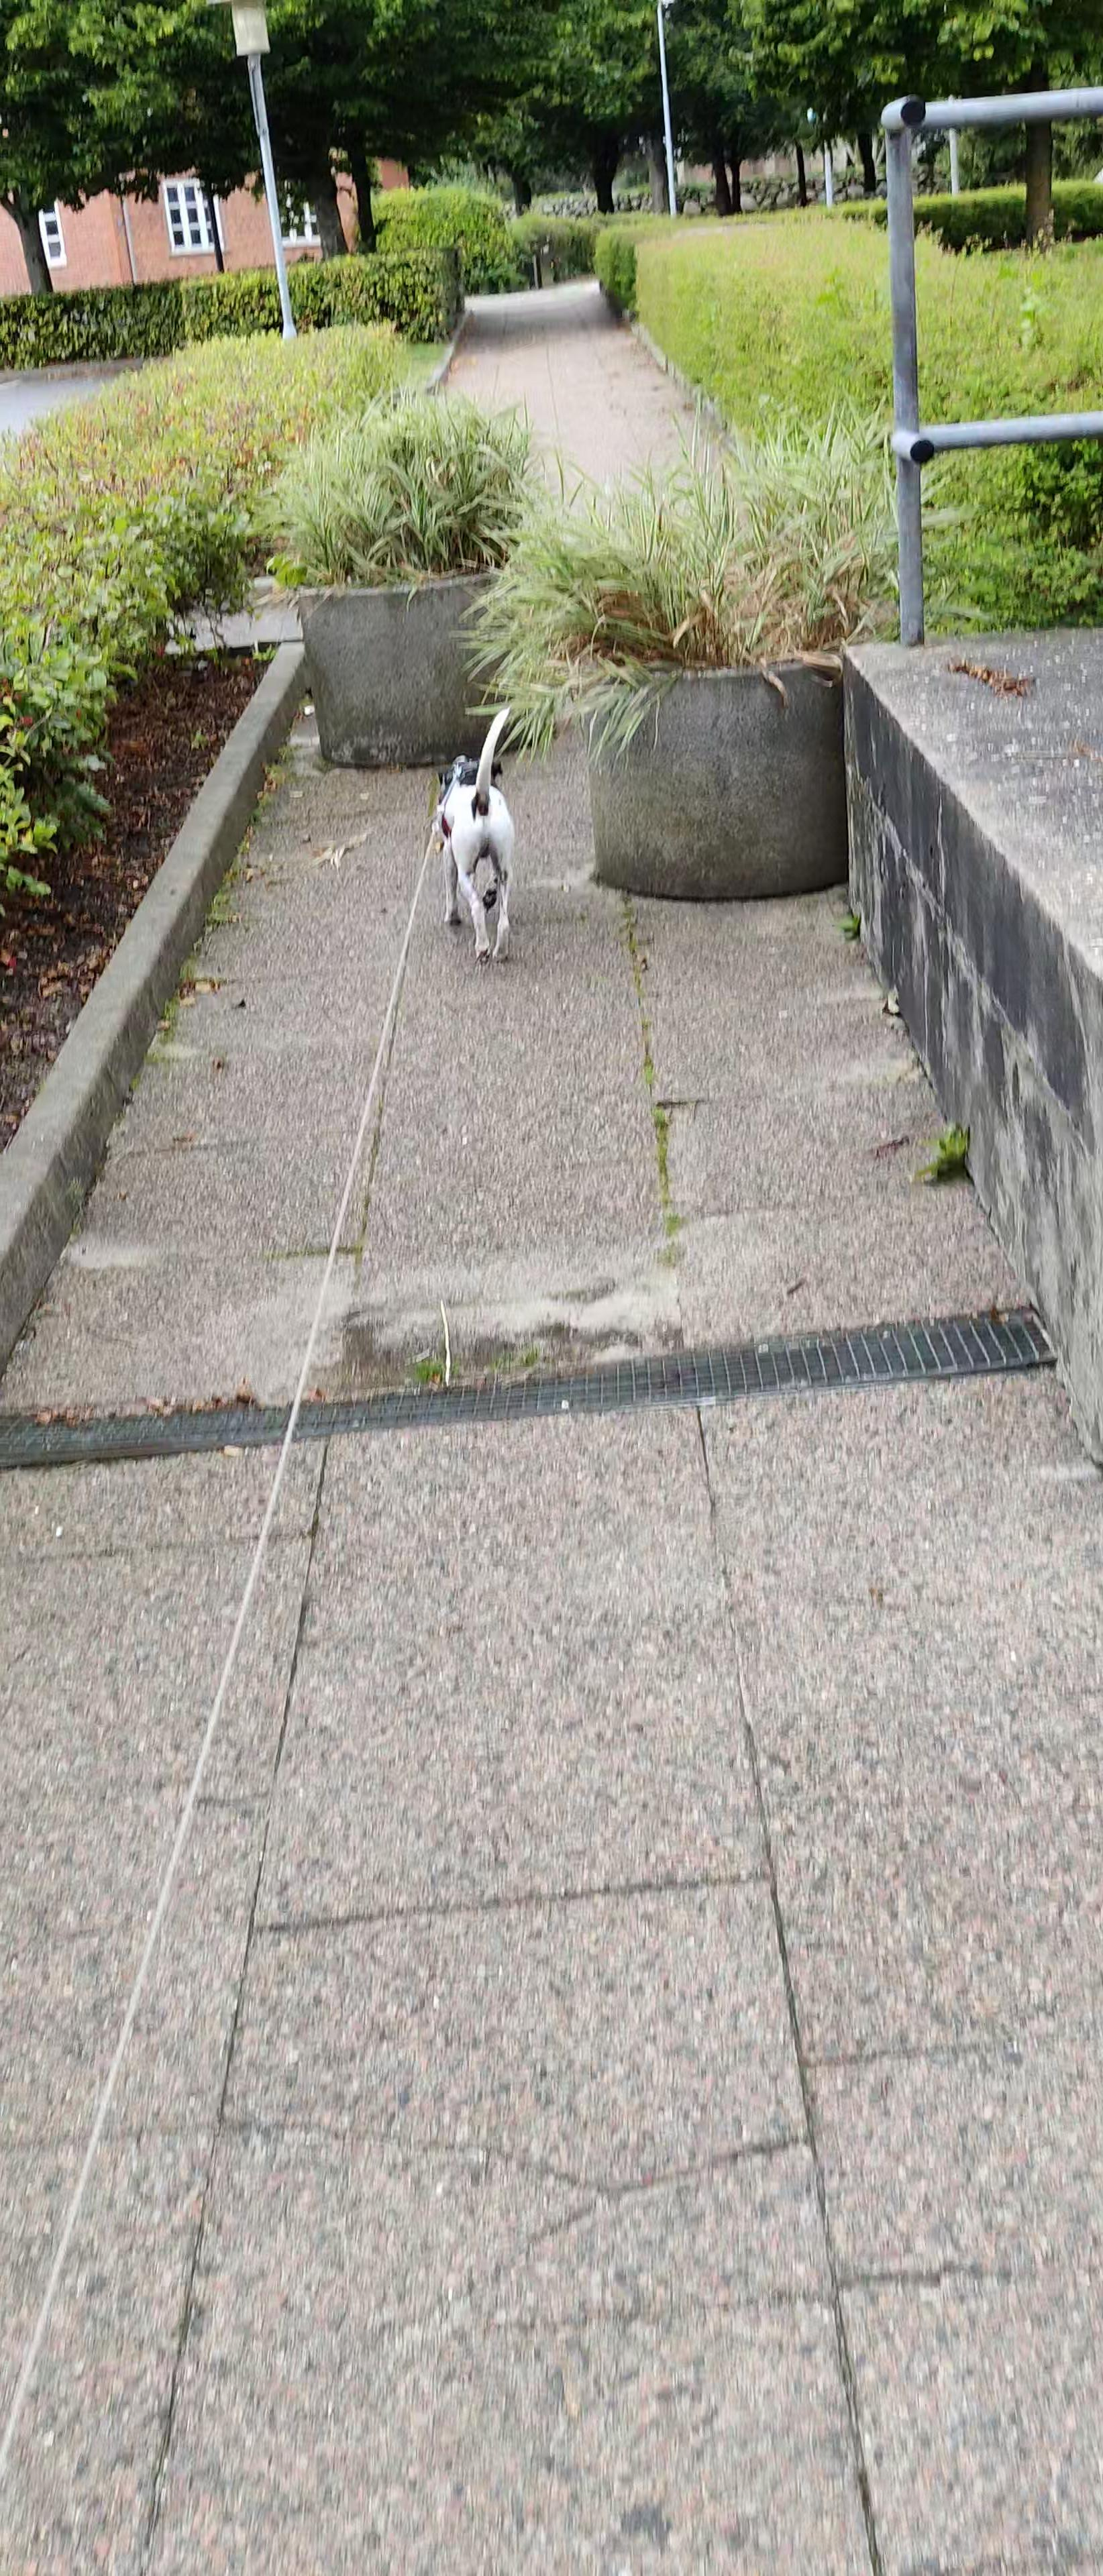Dog: (431, 706, 521, 966)
